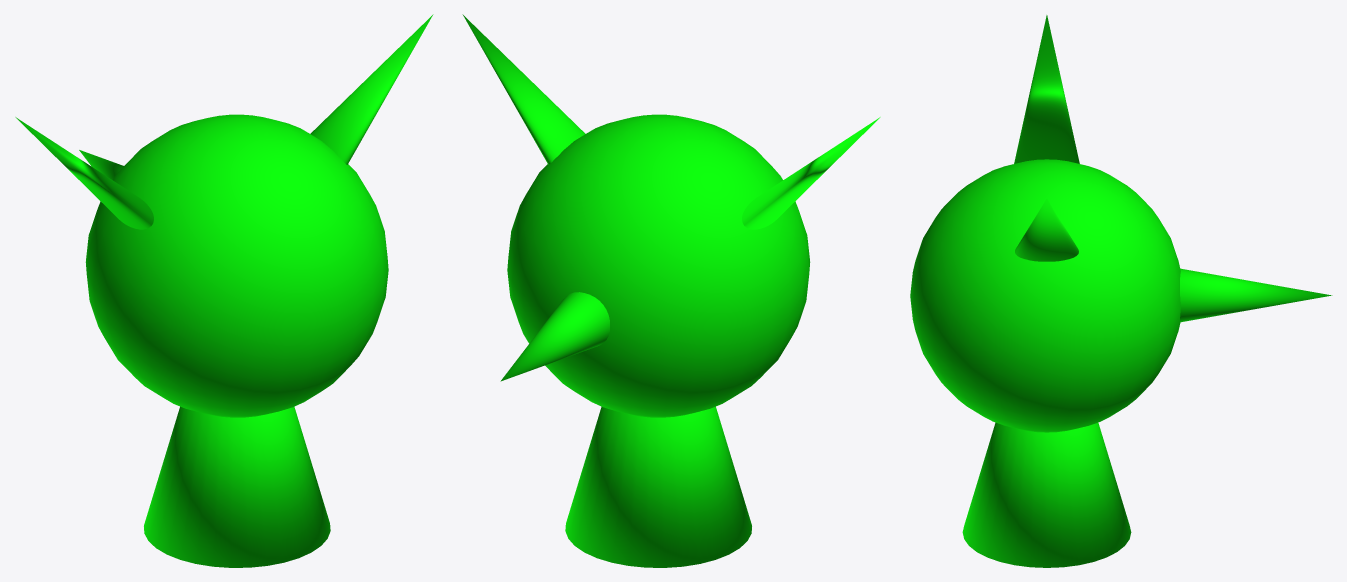
The model's file is Goblin.fbx.
3 views of the same model, side by side, from view 1: azimuth 30°, elevation 25°; view 2: azimuth 150°, elevation 25°; view 3: azimuth 270°, elevation 25° (orthographic). The views are drawn at different scales.
Parts seen in each view (by area): view 1: Sphere, Cylinder, Cone.001, Cone; view 2: Sphere, Cylinder, Cone.001, Cone; view 3: Sphere, Cylinder, Cone.001, Cone.
Boxes of the visible parts, bbox=[...] form: Sphere: bbox=[85, 114, 388, 417]; Cylinder: bbox=[144, 406, 330, 567]; Cone.001: bbox=[15, 14, 433, 229]; Cone: bbox=[79, 150, 123, 179]; Sphere: bbox=[507, 114, 810, 417]; Cylinder: bbox=[565, 406, 751, 567]; Cone.001: bbox=[462, 14, 880, 229]; Cone: bbox=[500, 292, 609, 381]; Sphere: bbox=[910, 159, 1180, 432]; Cylinder: bbox=[962, 422, 1131, 567]; Cone.001: bbox=[1014, 15, 1079, 261]; Cone: bbox=[1180, 268, 1332, 322].
Size of the model in its own units: 189 by 201 by 183.
